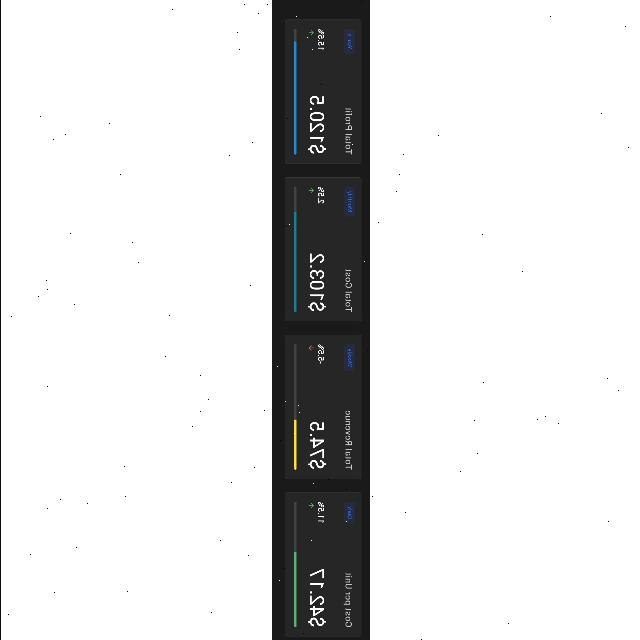QLabel: (306, 568, 326, 628), (308, 94, 326, 154), (308, 250, 324, 312), (308, 420, 326, 470), (344, 408, 352, 472), (343, 106, 352, 156), (343, 572, 351, 628), (344, 266, 352, 314), (316, 502, 324, 524), (316, 27, 324, 49), (316, 344, 324, 364), (316, 186, 324, 204), (346, 190, 352, 213), (346, 32, 352, 52), (346, 348, 352, 368), (346, 507, 352, 519)
VCard: (283, 334, 362, 481), (283, 491, 362, 637), (283, 177, 362, 323), (283, 19, 362, 165)
VChip: (343, 343, 355, 372), (344, 186, 354, 218), (343, 28, 355, 54), (343, 501, 355, 524)
VIcon: (308, 30, 314, 36), (307, 345, 313, 351), (307, 504, 313, 508), (308, 188, 312, 194)
VProgressLinear: (292, 343, 296, 471), (292, 26, 296, 154), (292, 502, 296, 628), (292, 186, 296, 312)
